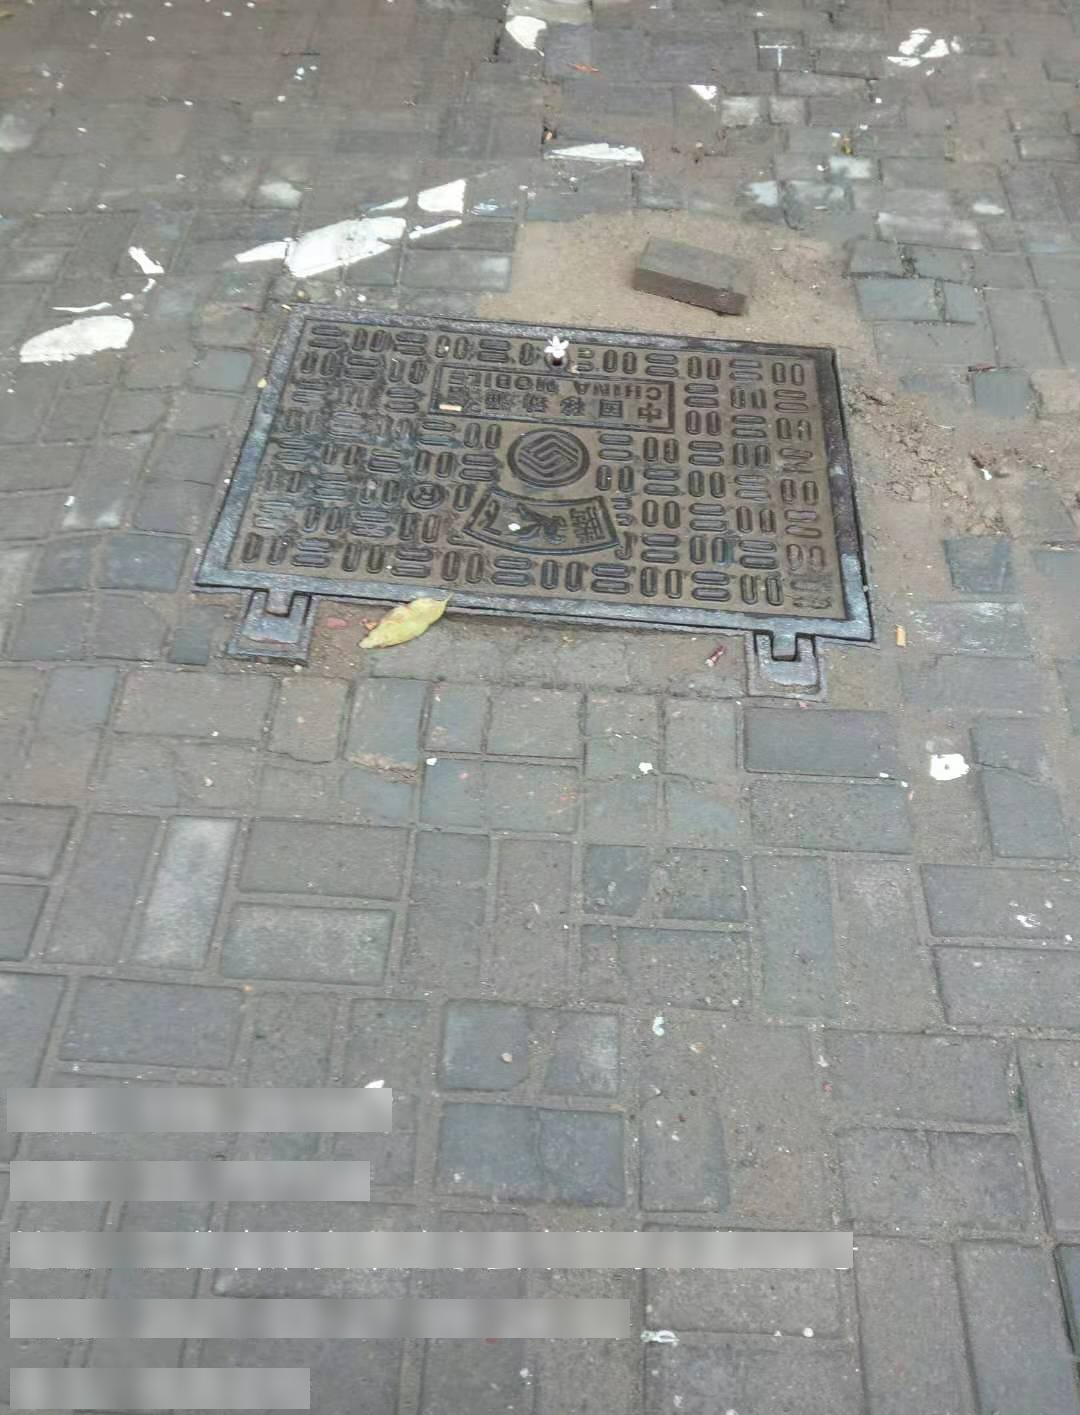good: (193, 301, 875, 702)
